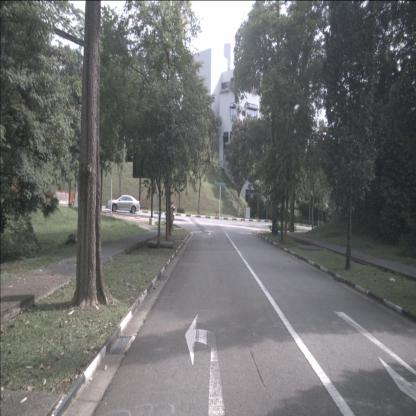movable_object-barrier: (55, 192, 69, 207), (65, 190, 75, 206)
vehicle-bicycle: (165, 204, 175, 222)
vehicle-car: (106, 194, 140, 214)
